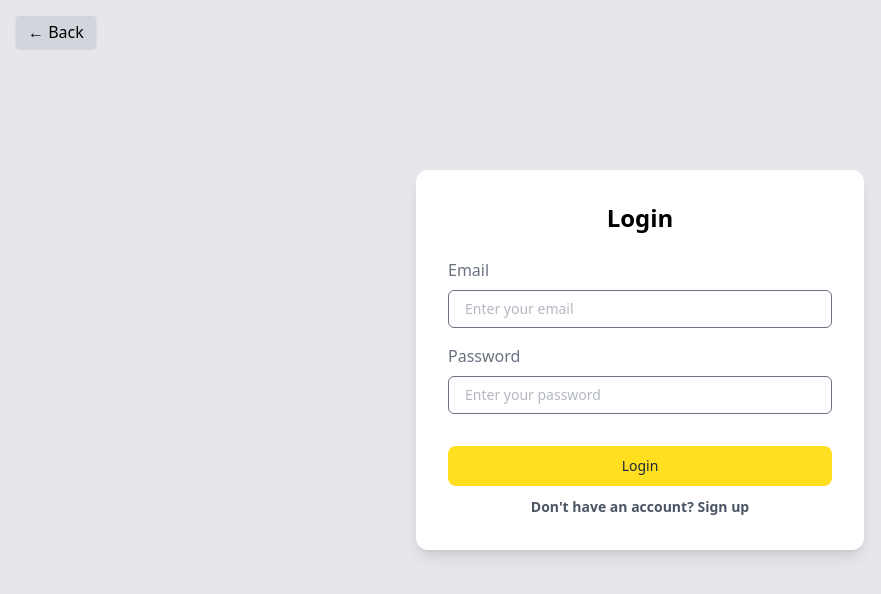
Scenario: Login page › shows error on invalid email
The width and height of the screenshot is (881, 594).
In the field with test id "input-email": (640, 309) [448,290,832,328], type "invalid@example.com"
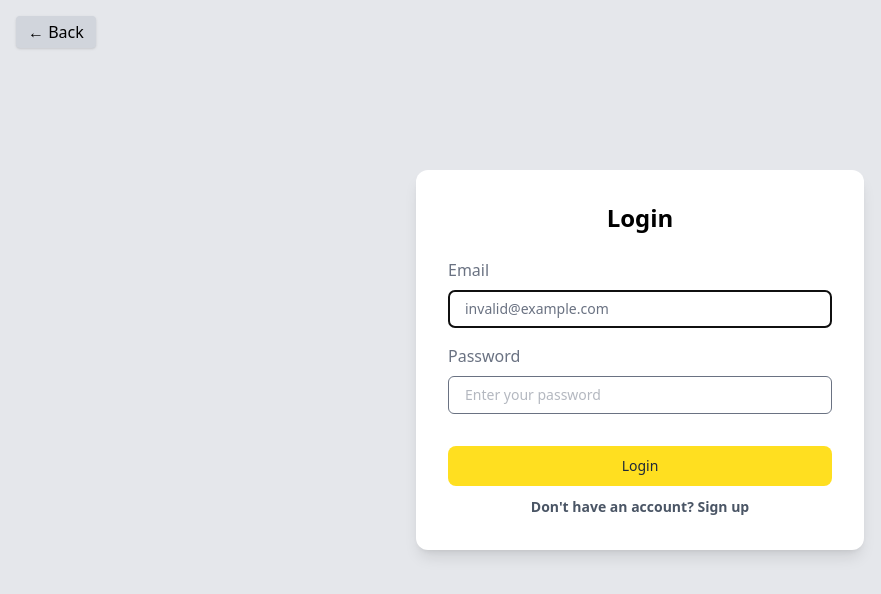
In the password field with test id "input-password": (640, 395) [448,376,832,414], type "wrongpass"
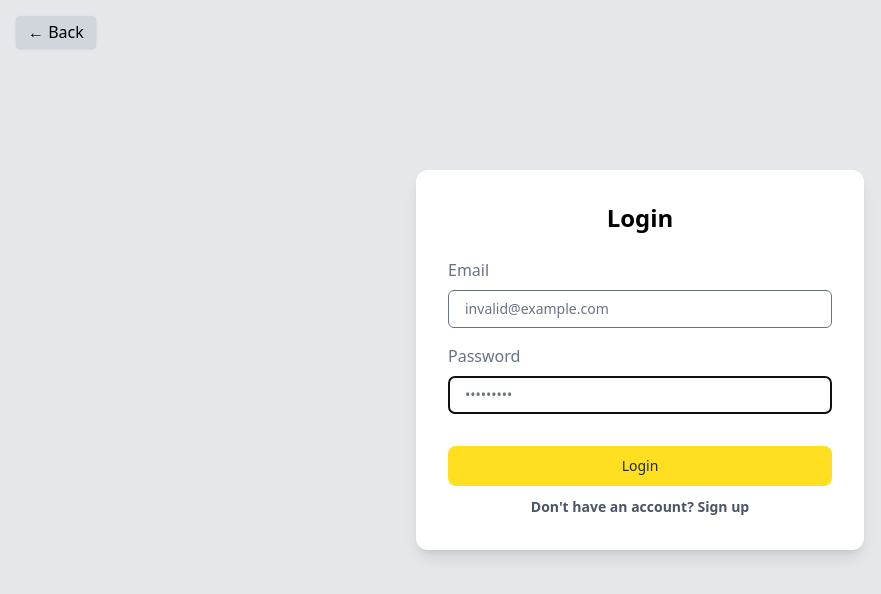
Click the button with test id "submit-login": (640, 466) [448,446,832,486]
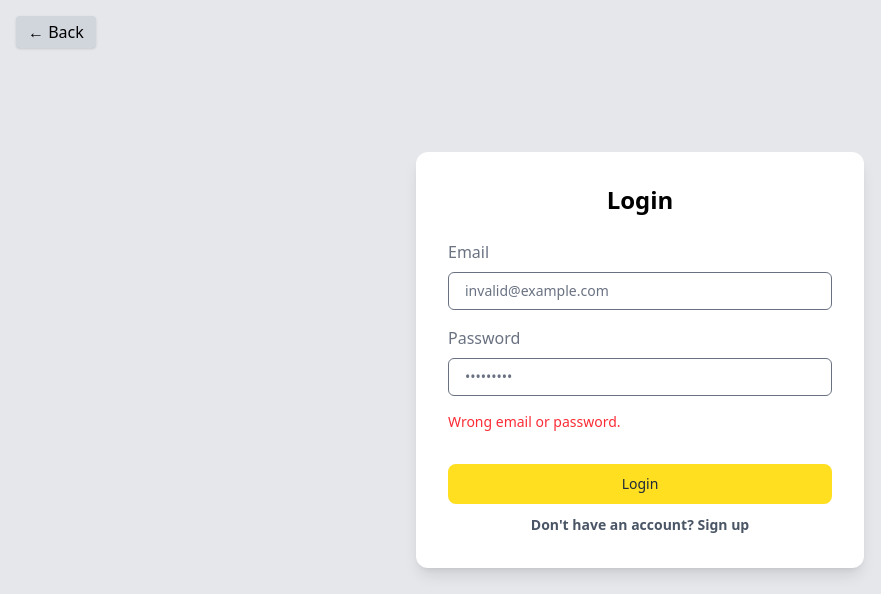
Expected: the text with test id "error-message" reads "Wrong email or password.", [448,412,621,431]
